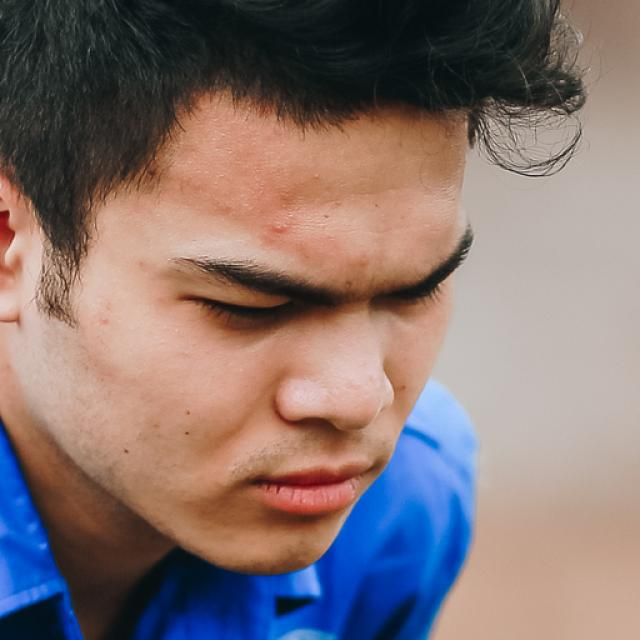Acne: (259, 216, 300, 245), (301, 165, 335, 194)
